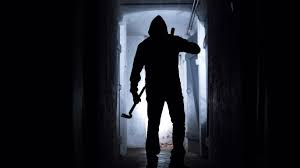crowbar: (119, 84, 145, 120)
